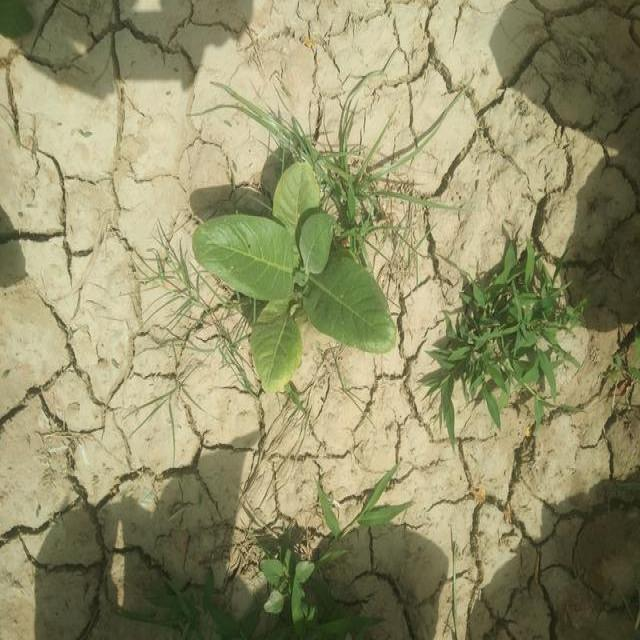crop: (187, 159, 399, 390)
